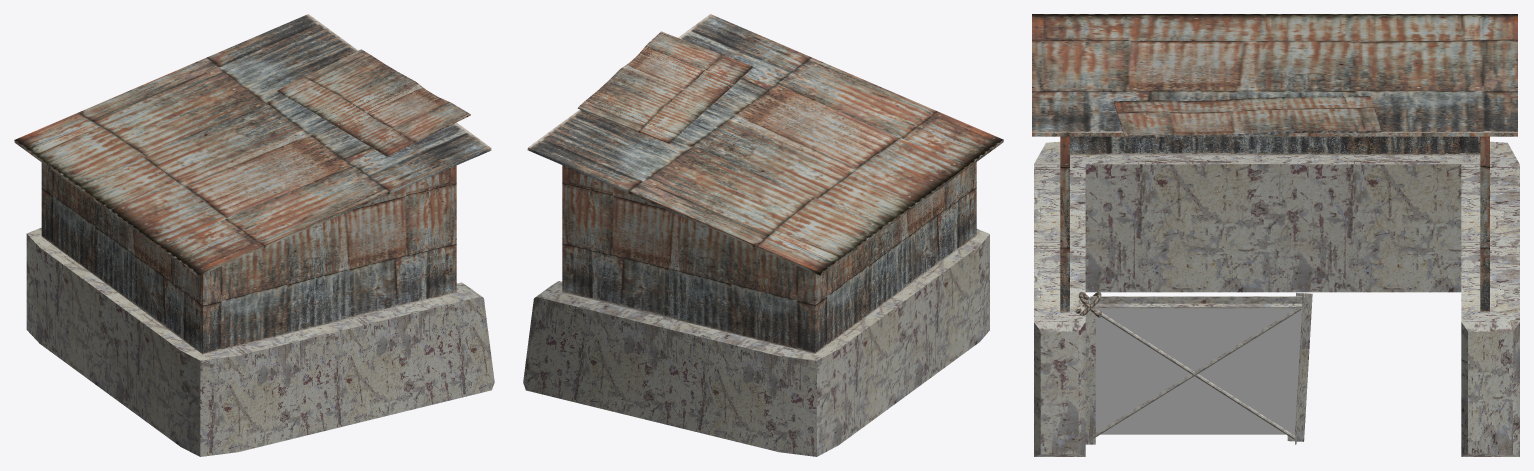
File: house02.fbx
The picture shows the model from 3 angles, left to right: view 1: azimuth 30°, elevation 25°; view 2: azimuth 150°, elevation 25°; view 3: azimuth 270°, elevation 25°; orthographic projection. The views are drawn at different scales.
Visible parts, largest first — view 1: Mesh; view 2: Mesh; view 3: Mesh.
Boxes of the visible parts, x1,y1,x2,y2 form: Mesh: (14, 14, 494, 456); Mesh: (523, 14, 1003, 456); Mesh: (1032, 14, 1519, 456).
Size of the model in its own units: 687 by 531 by 707.
